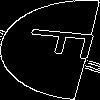F: (25, 25, 100, 63)
